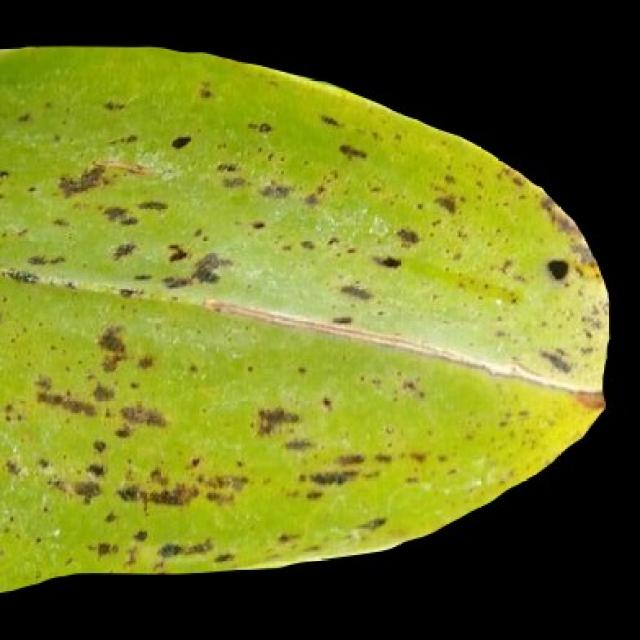mite: (536, 247, 580, 292), (96, 323, 126, 356), (545, 256, 570, 281), (393, 224, 420, 247), (376, 253, 400, 269), (170, 132, 191, 150)
spots: (0, 42, 612, 599)
